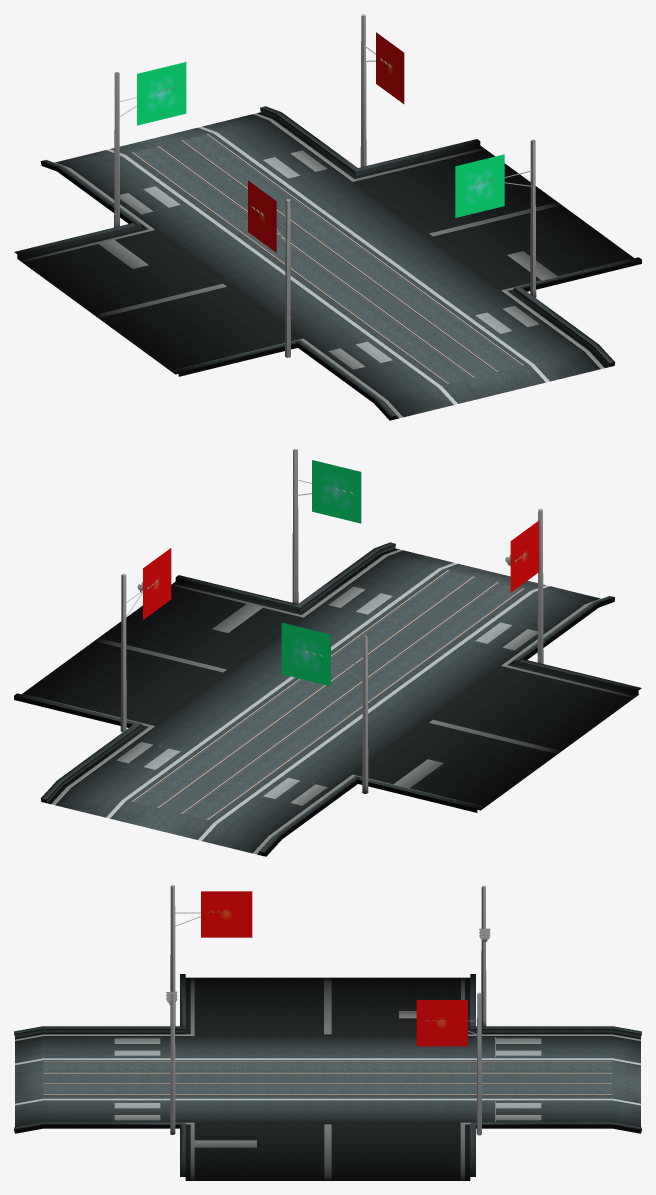
The model's file is K_RO_2RAIL_OUDAN.glb.
3 renders of one model, top to bottom at view 1: azimuth 30°, elevation 25°; view 2: azimuth 150°, elevation 25°; view 3: azimuth 270°, elevation 25°, orthographic. The views are drawn at different scales.
Visible parts, largest first — view 1: body, bone6, bone1; view 2: body, bone1, bone6; view 3: body, bone6, bone1.
Boxes of the visible parts, left/top/right/bottom form: body: left=14, top=106, right=641, bottom=420; bone6: left=248, top=139, right=536, bottom=357; bone1: left=114, top=14, right=404, bottom=227; body: left=14, top=542, right=641, bottom=856; bone1: left=120, top=548, right=368, bottom=793; bone6: left=292, top=449, right=543, bottom=663; body: left=14, top=974, right=641, bottom=1180; bone6: left=166, top=885, right=252, bottom=1134; bone1: left=416, top=886, right=490, bottom=1135.
Size of the model in its own units: 84.52 by 27.82 by 110.
Materials: 9 (9 with a texture image).
